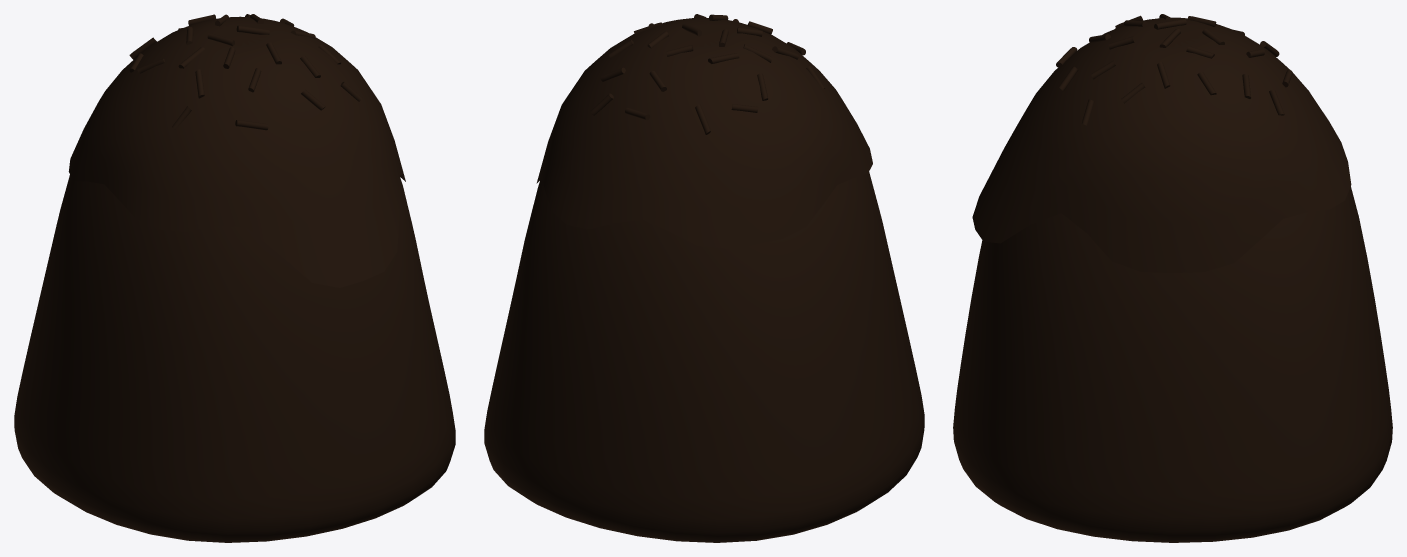
The model's file is chococream.fbx.
The picture shows the model from 3 angles, left to right: view 1: azimuth 30°, elevation 25°; view 2: azimuth 150°, elevation 25°; view 3: azimuth 270°, elevation 25°; orthographic projection.
Visible parts, largest first — view 1: chocowall001, Group001, sp; view 2: chocowall001, Group001, sp; view 3: chocowall001, Group001, sp.
Boxes of the visible parts, x1,y1,x2,y2 form: chocowall001: (14,174,455,542); Group001: (68,16,405,287); sp: (129,14,362,130); chocowall001: (484,172,924,542); Group001: (536,17,872,248); sp: (590,14,824,134); chocowall001: (953,186,1392,542); Group001: (972,17,1351,272); sp: (1056,14,1292,125).
Bounding box in the file's own units: 40.05 × 44.29 × 40.56.
